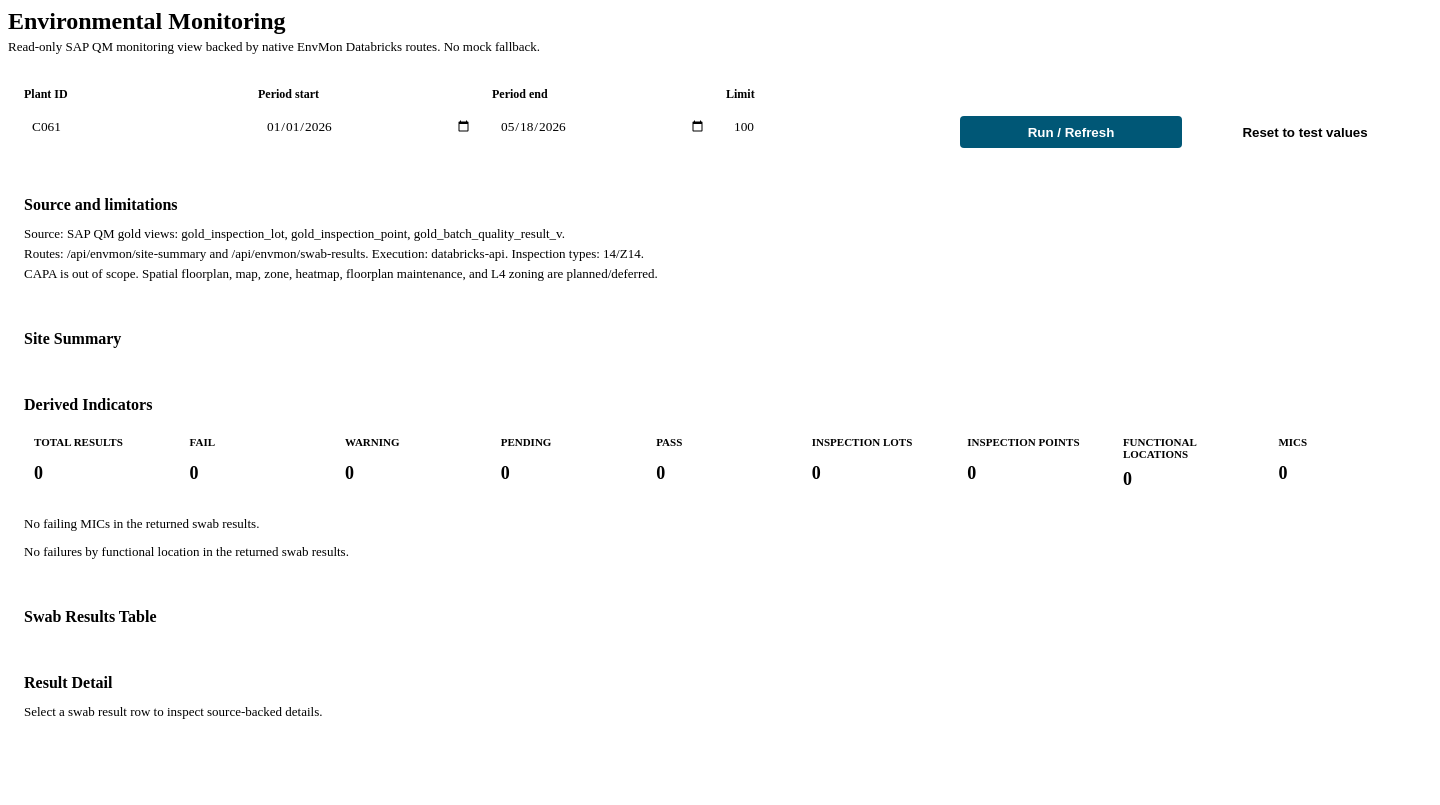
Test case: NativeMonitoringView › renders route error states without mock fallback
The width and height of the screenshot is (1440, 805).
Click the button with test id "envmon-run-query" at (1071, 132), box [960,116,1182,148]
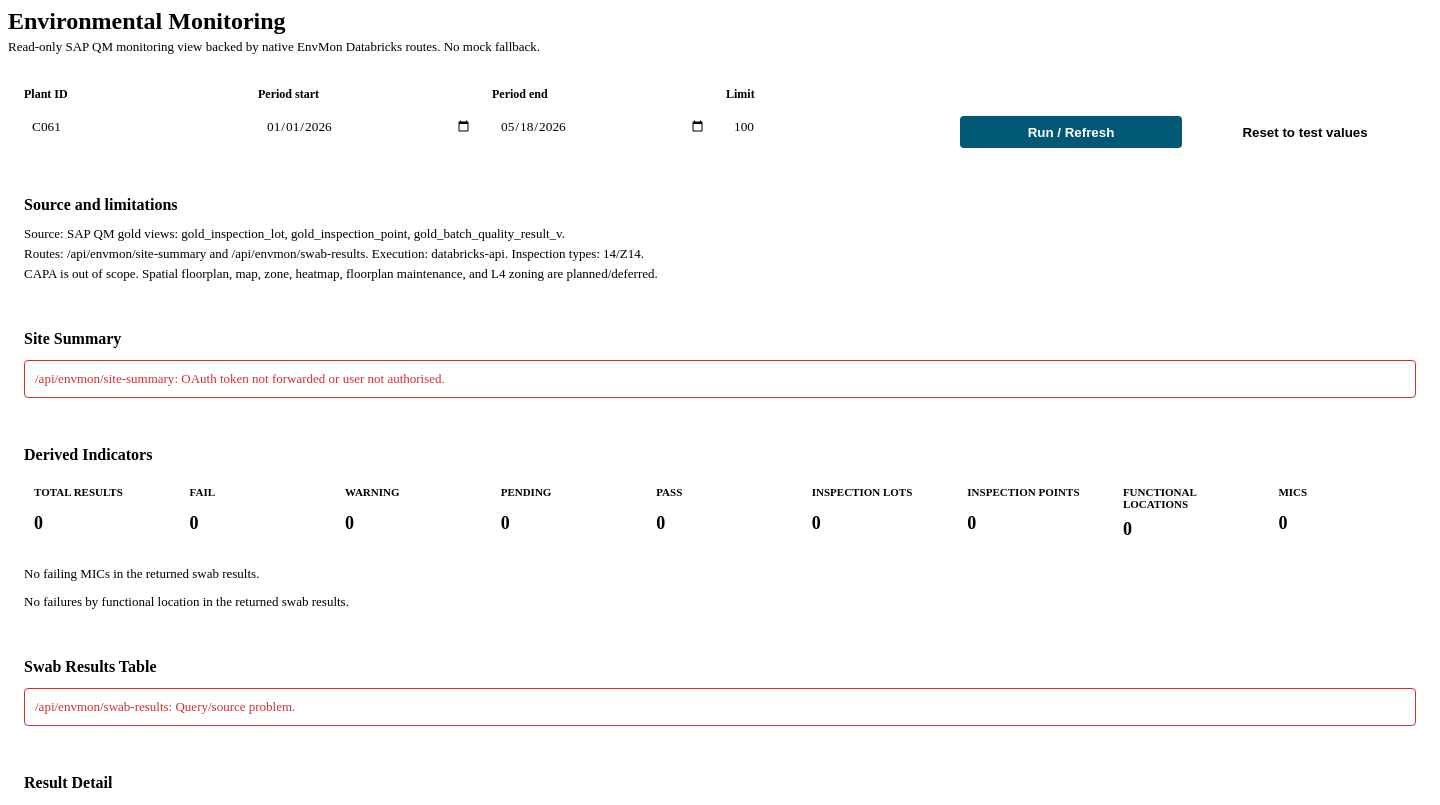
expect the number of elements with test id "envmon-route-error" is 2: met, box [24,360,1416,398]; [24,688,1416,726]
expect the text "OAuth token not forwarded" is shown: met, box [181,371,445,386]
expect the text "/api/envmon/swab-results: Query/source problem." is shown: met, box [24,688,1416,726]
